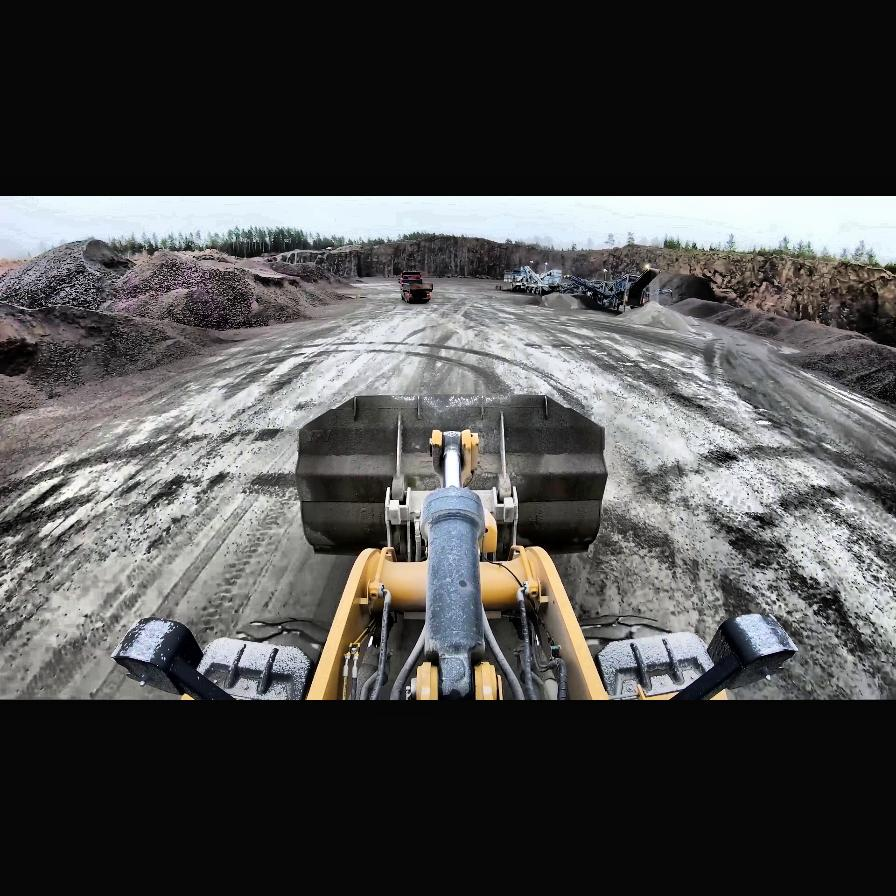anchor: (430, 428, 478, 490)
pile of gravel: (3, 295, 203, 409), (111, 247, 347, 331), (0, 238, 132, 312), (786, 336, 896, 410), (624, 304, 696, 332)
